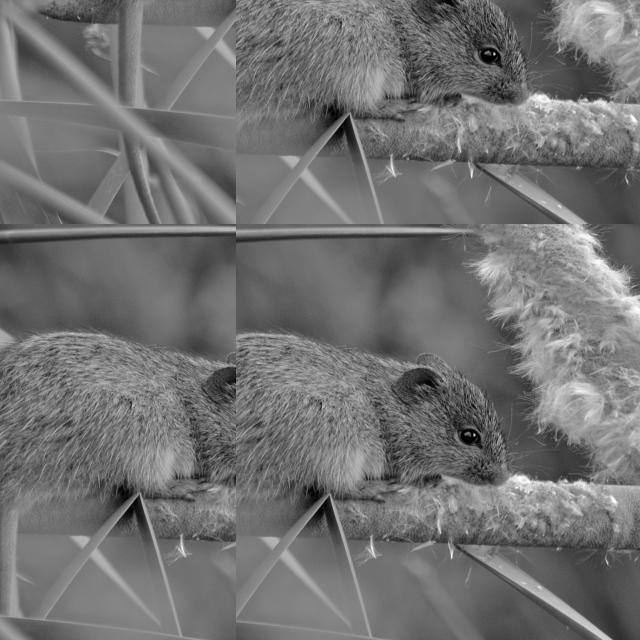rat: (236, 332, 505, 511)
